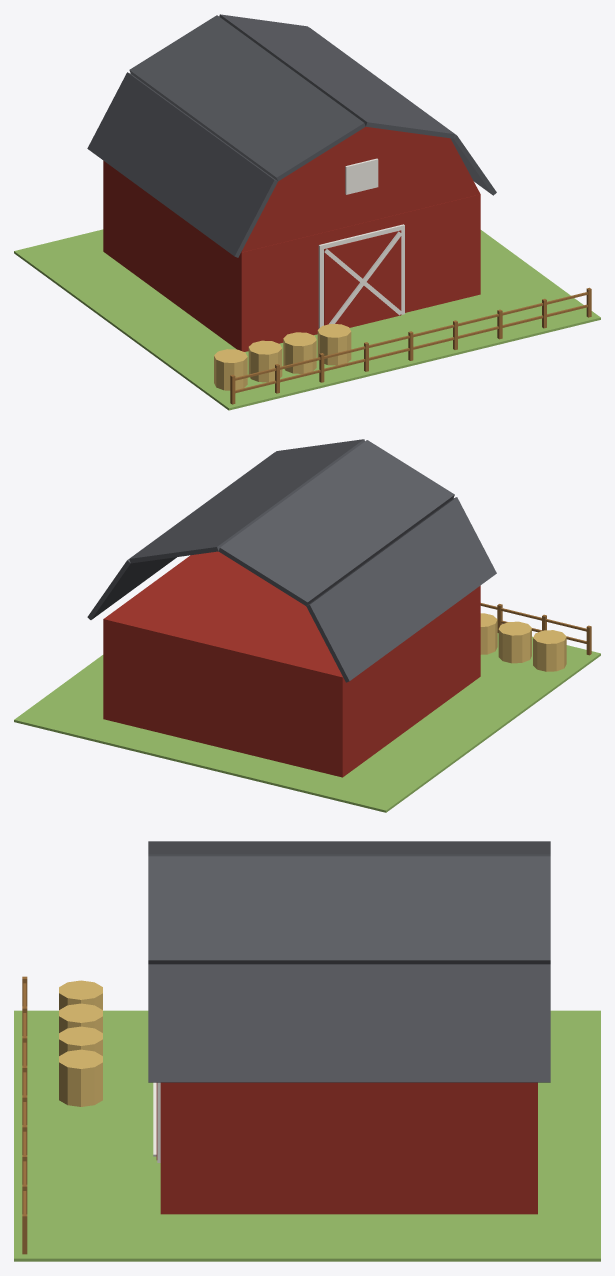
Rendered from Sanayi_ahir_1_Hafif.fbx.
3 views of the same model, one above another, from view 1: azimuth 30°, elevation 25°; view 2: azimuth 150°, elevation 25°; view 3: azimuth 270°, elevation 25° (orthographic). The views are drawn at different scales.
Parts seen in each view (by area): view 1: Sanayi_ahir_1_Hafif; view 2: Sanayi_ahir_1_Hafif; view 3: Sanayi_ahir_1_Hafif.
Boxes of the visible parts, bbox=[...] form: Sanayi_ahir_1_Hafif: bbox=[14, 14, 600, 410]; Sanayi_ahir_1_Hafif: bbox=[14, 439, 600, 812]; Sanayi_ahir_1_Hafif: bbox=[14, 841, 600, 1261].
Size of the model in its own units: 14 by 7.43 by 14.
